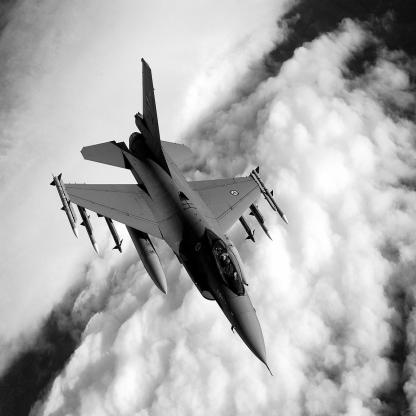F16: (51, 58, 290, 378)
